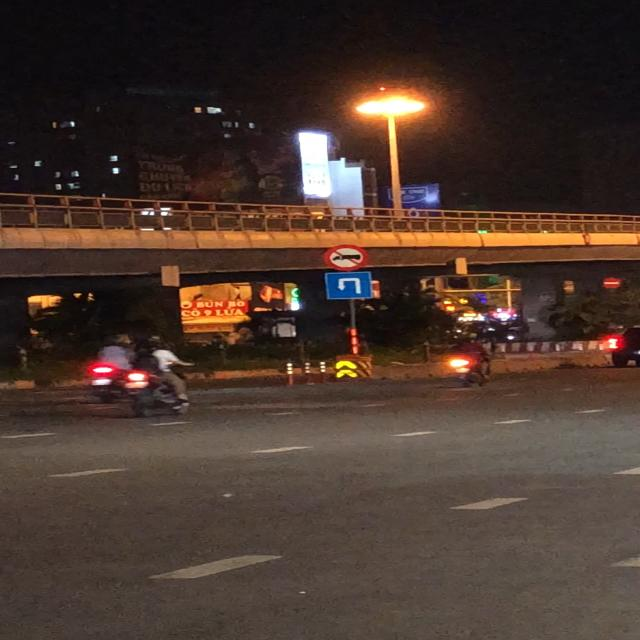Bien bao cam xe so-mi ro-mooc: (321, 243, 369, 272)
